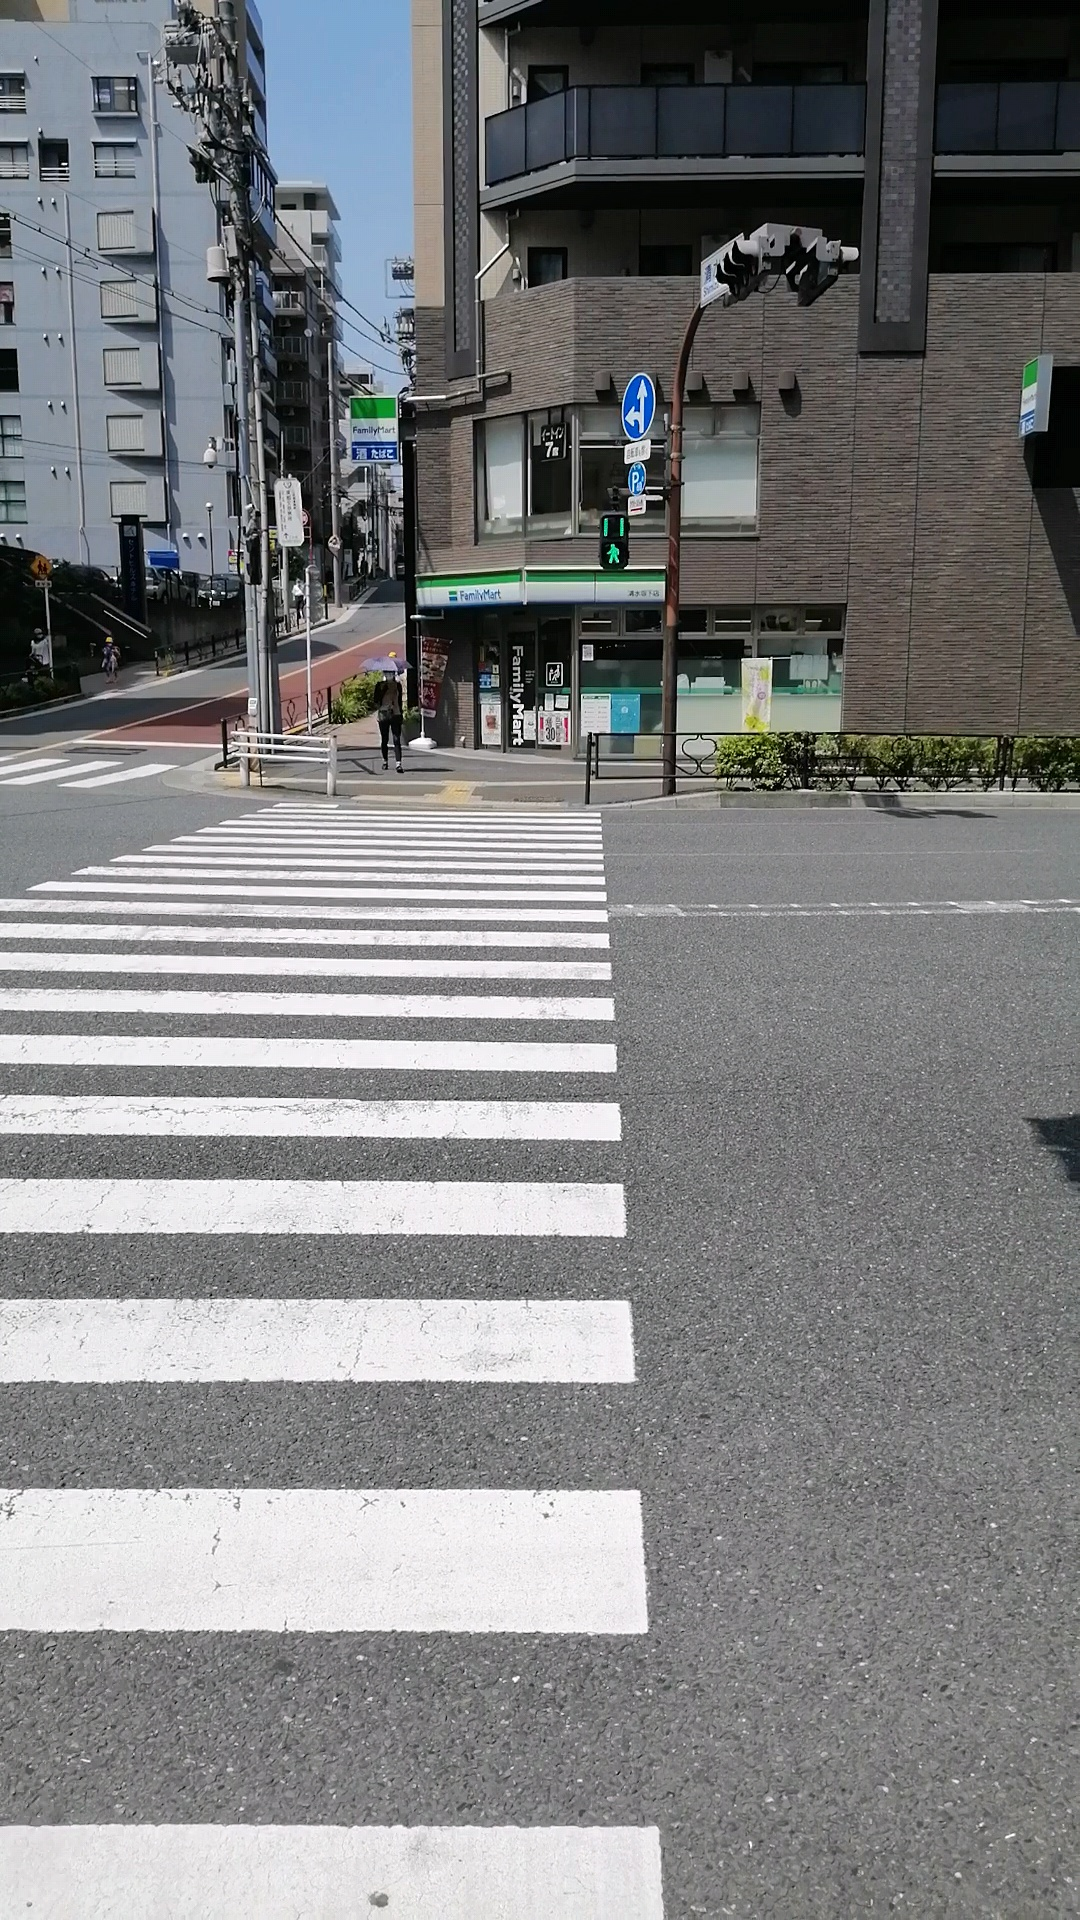green: (599, 510, 629, 571)
